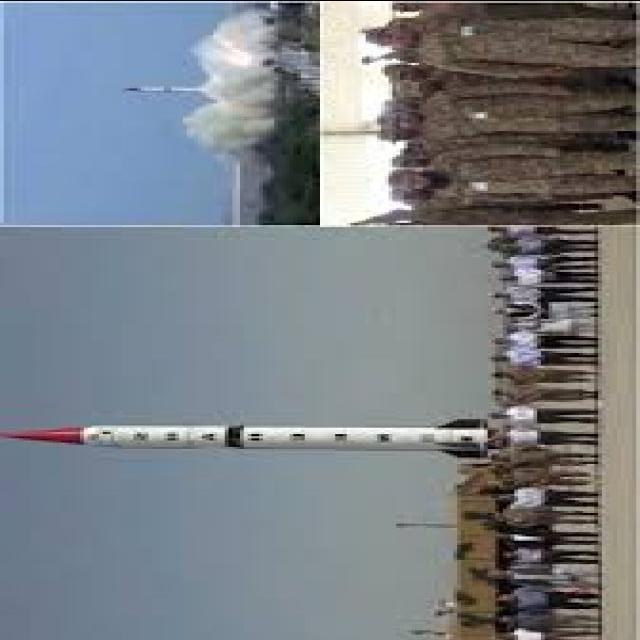Missile: (2, 417, 486, 452), (120, 84, 203, 95)
